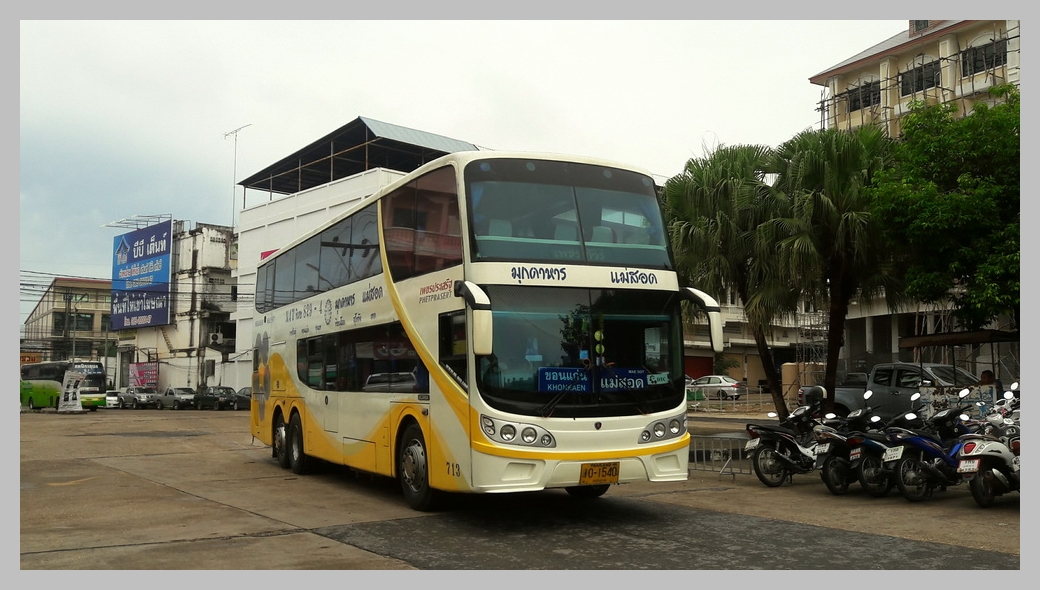bus: (250, 149, 695, 510)
